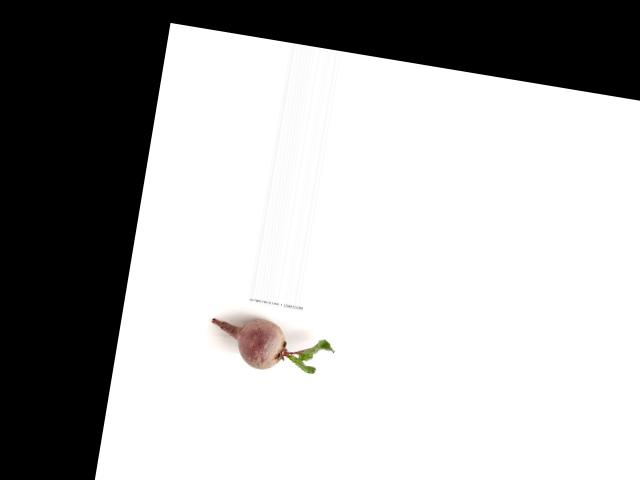beet: (207, 311, 338, 380)
